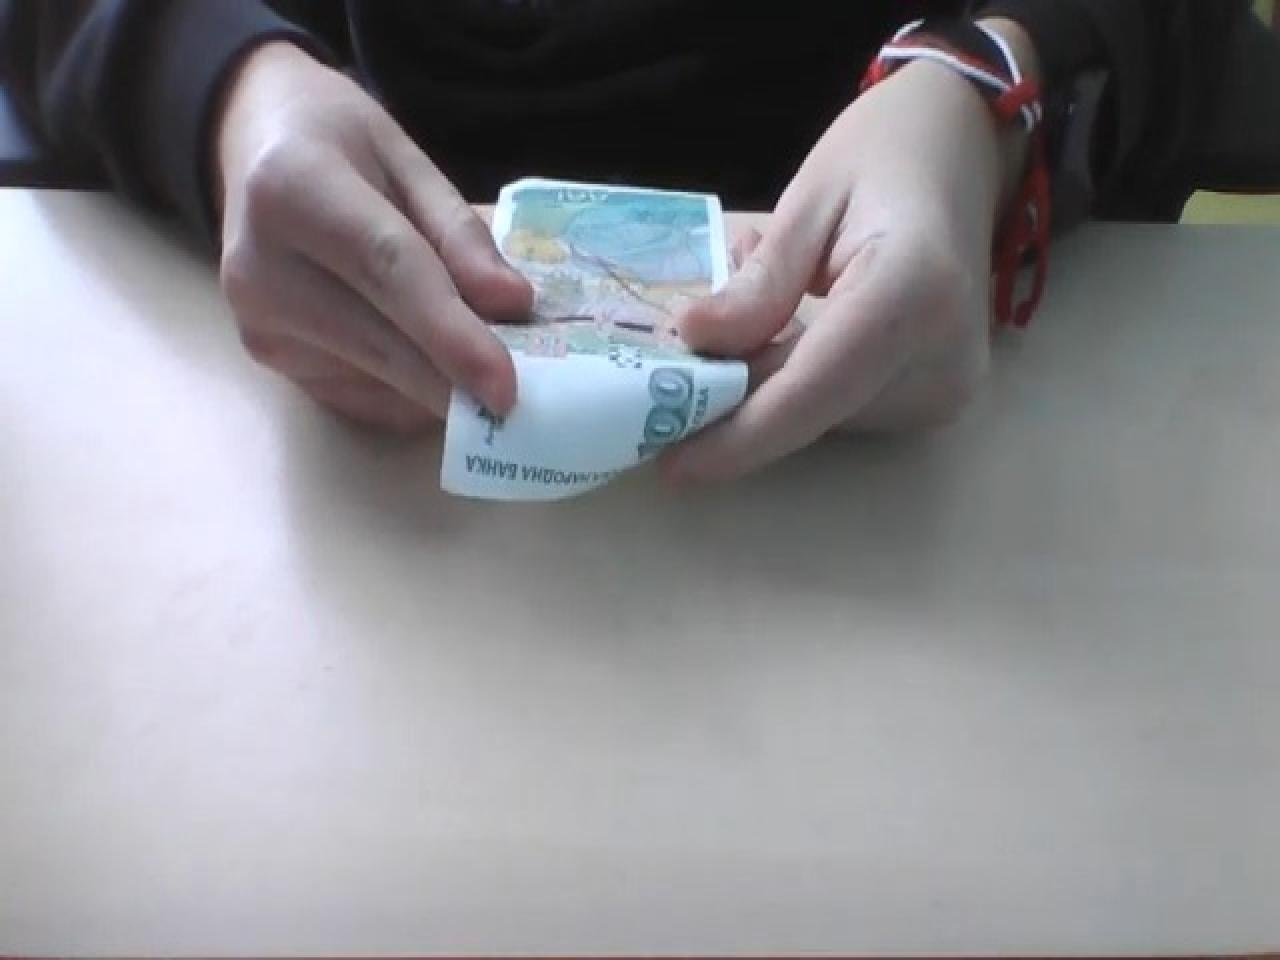100leva: (436, 173, 750, 504)
